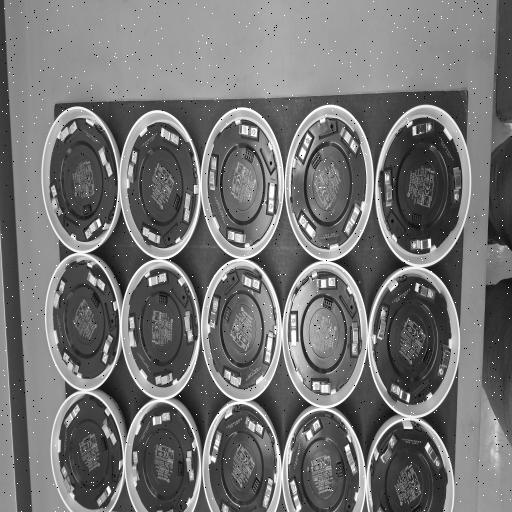konnektor: (311, 152, 322, 170), (423, 348, 433, 367), (90, 292, 100, 310), (336, 460, 345, 480), (251, 476, 260, 495), (323, 297, 334, 312), (223, 305, 232, 323), (411, 213, 423, 226), (244, 148, 254, 163), (172, 193, 180, 211), (99, 437, 108, 453), (82, 202, 92, 216), (158, 293, 168, 306), (176, 460, 183, 478)
yayli: (343, 202, 362, 237), (296, 131, 313, 168), (423, 440, 443, 471), (339, 126, 360, 155), (98, 142, 114, 180), (380, 432, 398, 465), (301, 416, 322, 444), (298, 213, 318, 241), (101, 416, 118, 448), (437, 342, 451, 380), (389, 382, 412, 404), (62, 402, 80, 430), (86, 268, 106, 293), (244, 414, 264, 439), (344, 442, 358, 477), (414, 280, 436, 302), (52, 278, 66, 312), (59, 119, 77, 145), (376, 305, 389, 341), (62, 350, 80, 376), (60, 466, 76, 494), (127, 148, 139, 185), (50, 183, 63, 217), (289, 478, 302, 512), (84, 217, 102, 241), (160, 126, 180, 147), (211, 429, 223, 464), (101, 333, 114, 365), (241, 272, 261, 292), (223, 368, 243, 388), (452, 165, 462, 204), (96, 484, 112, 508), (262, 476, 274, 508), (142, 224, 161, 244), (412, 120, 434, 137), (264, 329, 274, 366), (209, 296, 220, 329), (183, 188, 193, 224), (208, 156, 218, 192), (384, 169, 393, 209), (152, 409, 172, 427), (311, 379, 333, 395), (128, 315, 138, 350), (351, 320, 360, 358), (148, 271, 168, 288), (184, 309, 194, 343), (154, 371, 174, 387), (410, 237, 432, 251), (186, 449, 195, 483), (238, 124, 258, 139), (227, 230, 247, 245), (132, 450, 141, 483), (268, 177, 276, 214), (290, 312, 298, 348), (315, 277, 336, 289)
